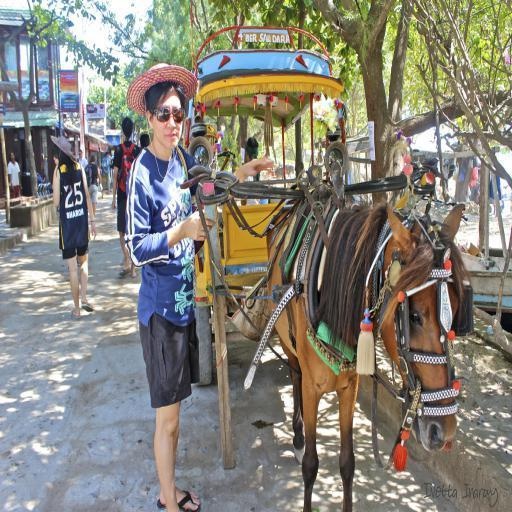horse: (268, 196, 472, 512)
